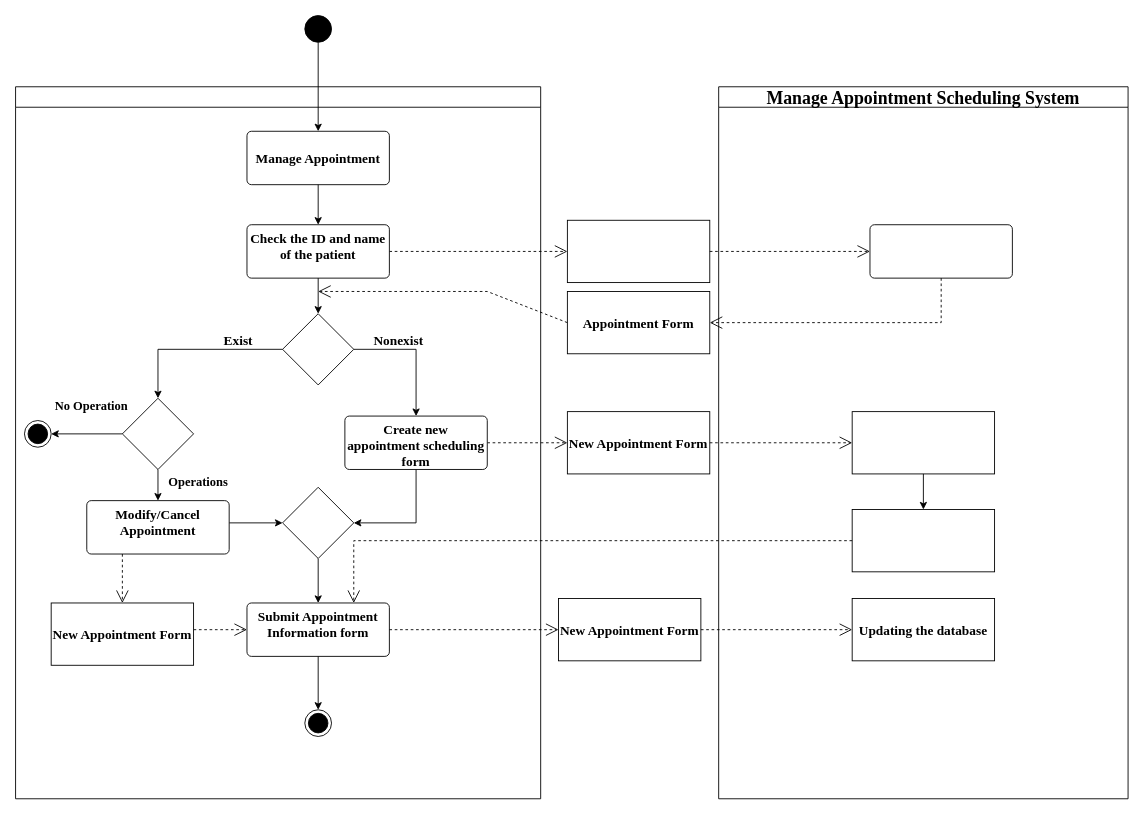
Image size: 1144x814. Some labels were removed from this diagram. Each missing label, with the box of its shape:
Add new appointment scheduling form: (851, 411, 995, 474)
Appointments: (869, 224, 1012, 278)
Doctor: (15, 86, 541, 799)
PatientInfo Form: (566, 219, 710, 283)
Payment Successfully: (851, 509, 995, 572)
